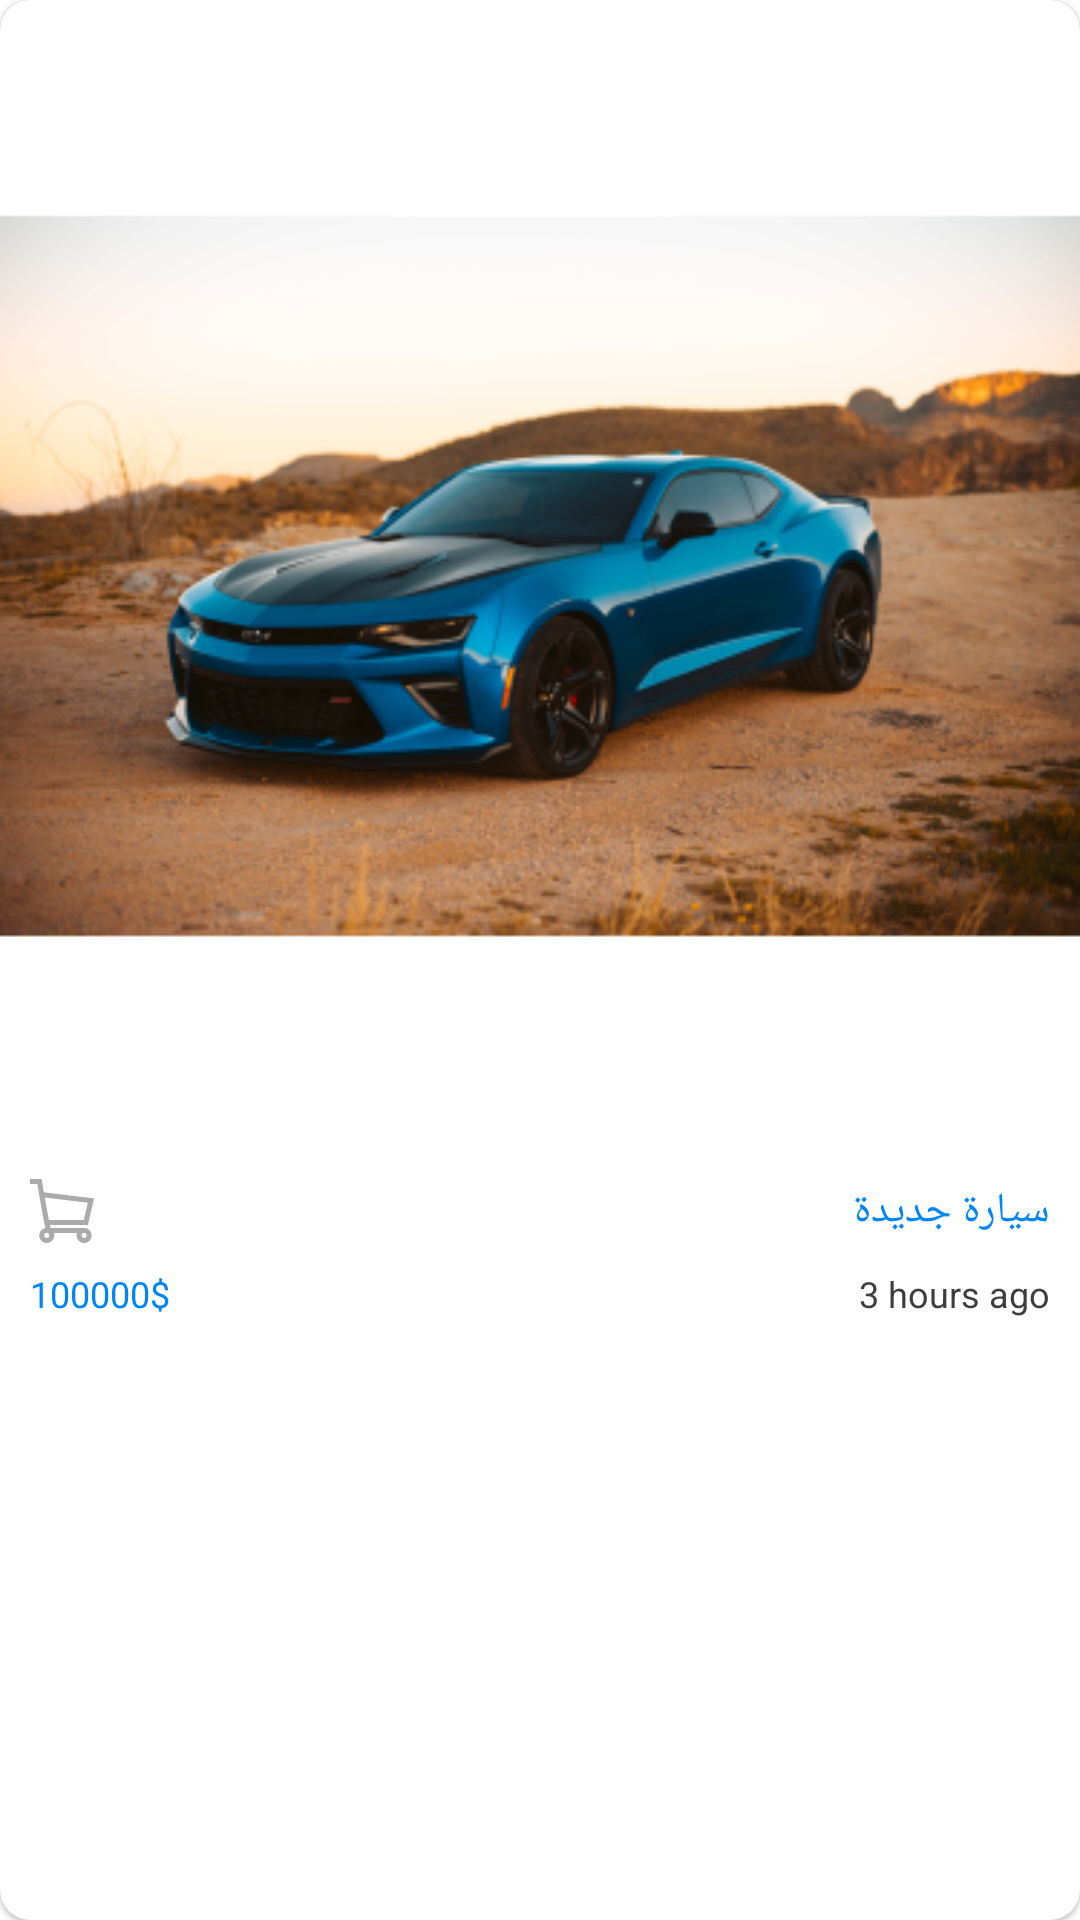

Where icons sit on this 1080×1920 app screen, as detection(x1, y1, x2, y2):
cart: detection(30, 1179, 94, 1243)
